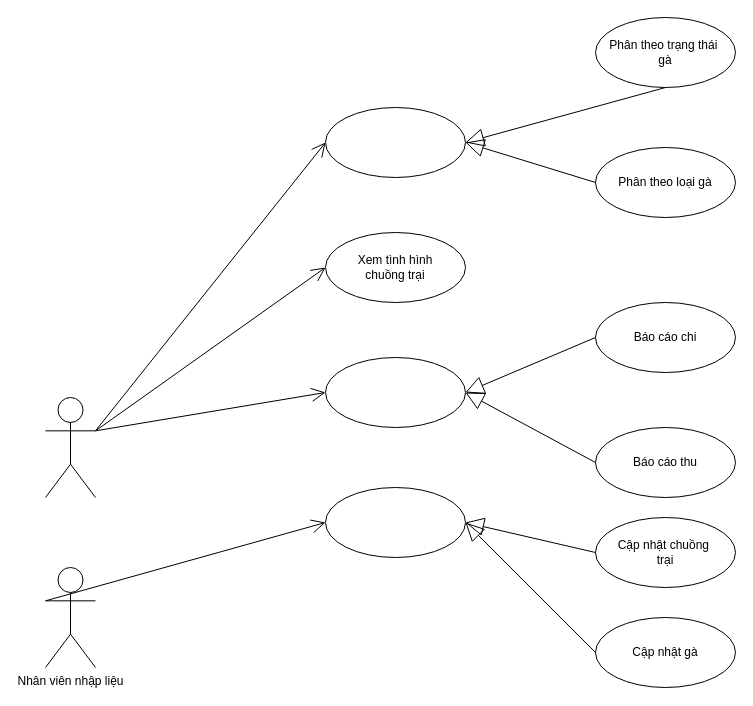
Some shapes in this 753 by 706 pixel diagram are drawn without their labels. Here are the shapes that lost their labels. From the top down, the centre of each, then its label:
At point (395, 142): "Xem số lượng gà".
At point (395, 392): "Xem báo cáo".
At point (70, 447): "Chủ trang trạii".
At point (395, 522): "Cập nhật thông tin".
